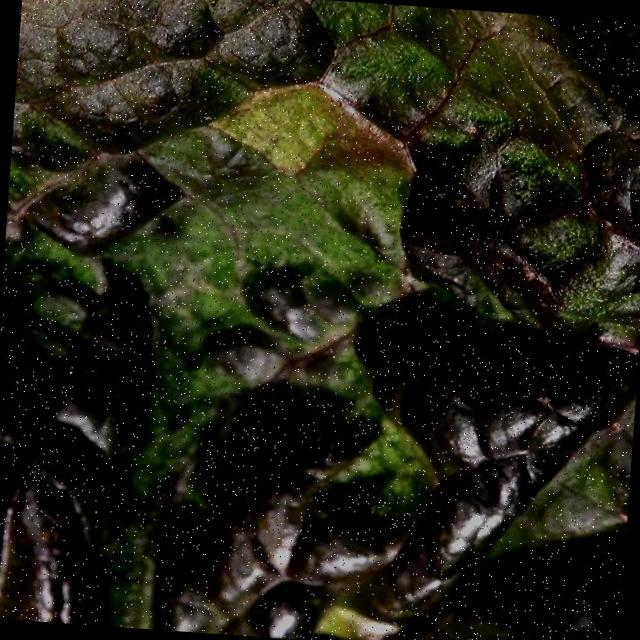Downy_mildew_on_lettuce: (183, 300, 624, 634)
